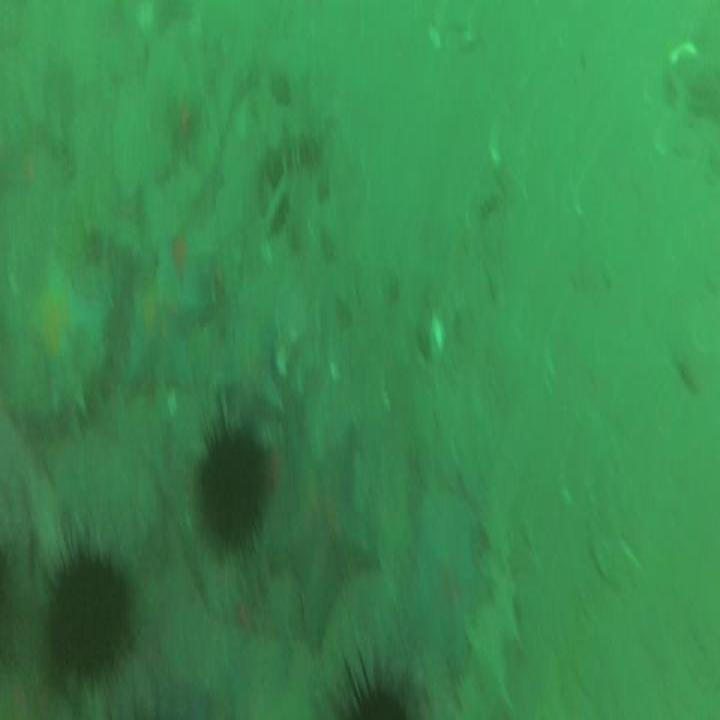echinus: (49, 554, 131, 682), (197, 429, 265, 551)
holothurian: (265, 123, 324, 183)
starfish: (271, 423, 377, 635), (400, 516, 486, 673), (120, 240, 204, 386), (27, 263, 104, 418), (215, 313, 284, 427)
